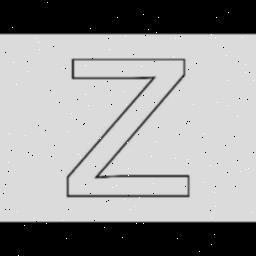z: (58, 52, 198, 202)
